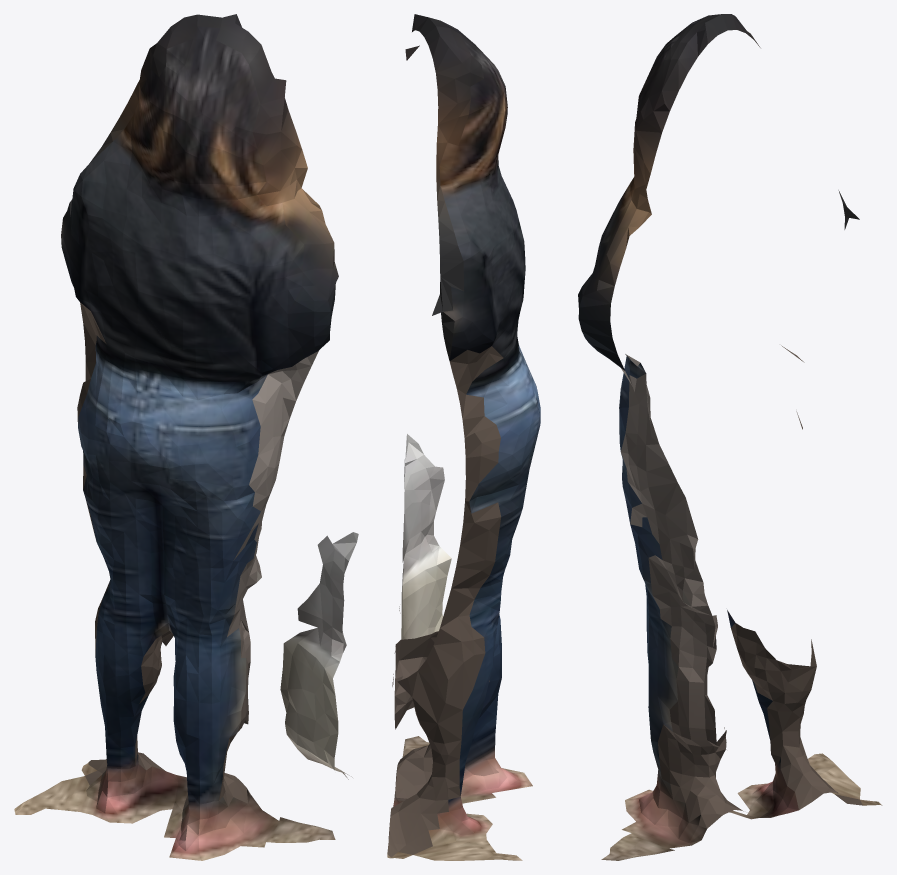
3 renders of one model, left to right at view 1: azimuth 30°, elevation 25°; view 2: azimuth 150°, elevation 25°; view 3: azimuth 270°, elevation 25°, orthographic. The views are drawn at different scales.
Size of the model in its own units: 0.4745 by 1.57 by 0.5514.
1 material, 1 textured.
